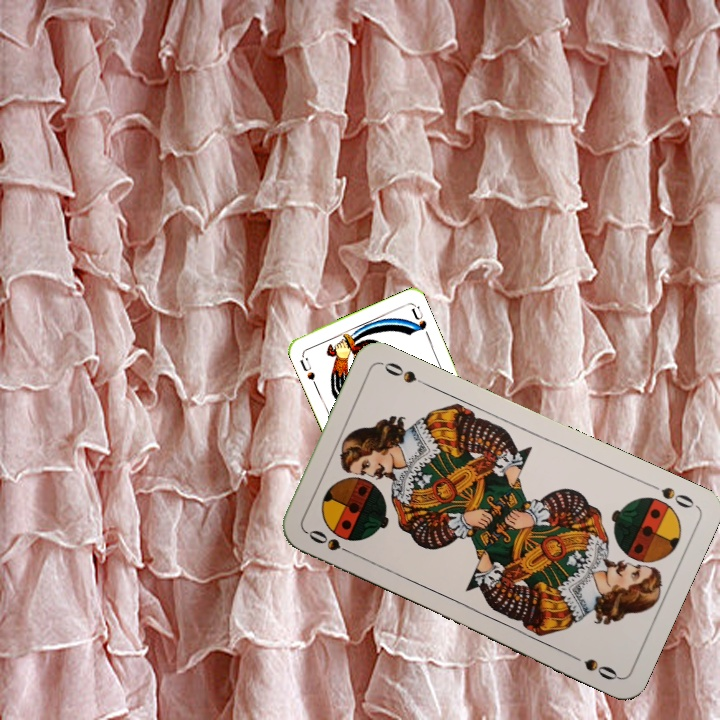SO: (302, 525, 359, 559), (643, 479, 697, 511)
SU: (296, 354, 319, 389)
